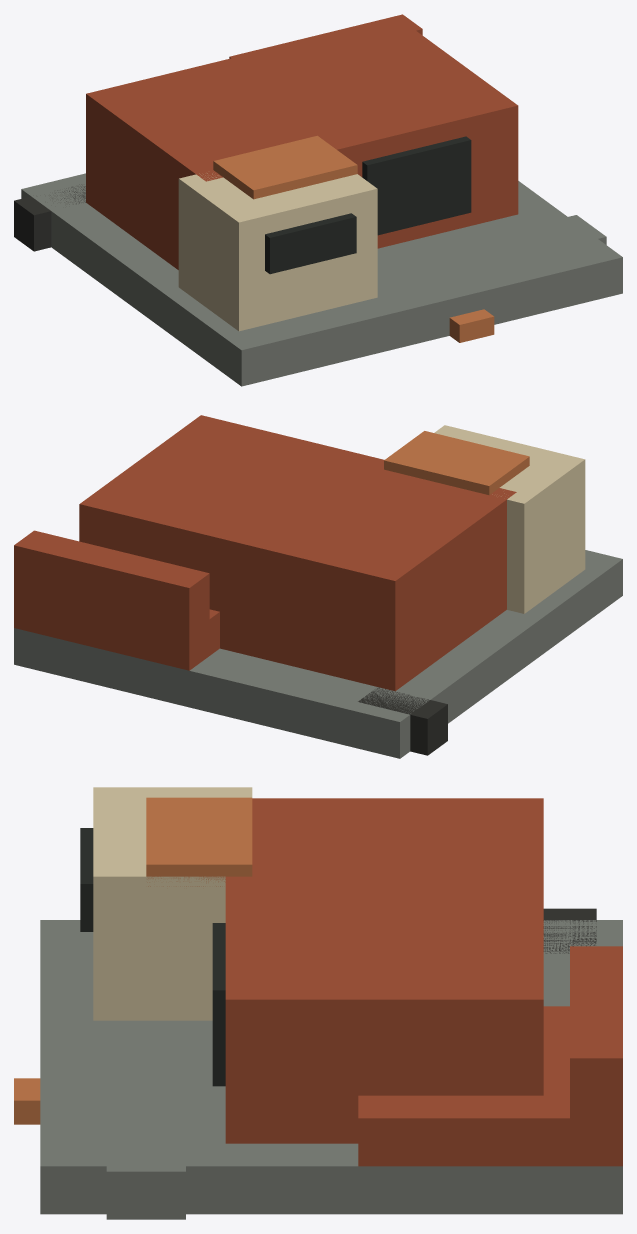
File: wreckSections.gltf
The picture shows the model from 3 angles, top to bottom: view 1: azimuth 30°, elevation 25°; view 2: azimuth 150°, elevation 25°; view 3: azimuth 270°, elevation 25°; orthographic projection. The views are drawn at different scales.
Visible parts, largest first — view 1: hullBlock, hullPlate, cabBlock, hullScorch, cabRoofStep, cabVisor, debrisB, debrisA, debrisC, bedRail; view 2: hullBlock, hullPlate, bedRail, cabBlock, bedPlate, cabRoofStep, debrisB; view 3: hullBlock, hullPlate, cabBlock, bedPlate, bedRail, cabRoofStep, debrisA, hullScorch, debrisB, cabVisor, debrisC.
Part boxes in pixels (x1=…): hullBlock: x1=86, y1=17, x2=518, y2=269; hullPlate: x1=21, y1=173, x2=622, y2=386; cabBlock: x1=178, y1=173, x2=377, y2=331; hullScorch: x1=362, y1=136, x2=471, y2=235; cabRoofStep: x1=213, y1=135, x2=357, y2=199; cabVisor: x1=265, y1=213, x2=356, y2=274; debrisB: x1=14, y1=184, x2=85, y2=251; debrisA: x1=525, y1=215, x2=606, y2=249; debrisC: x1=449, y1=309, x2=494, y2=342; bedRail: x1=229, y1=14, x2=422, y2=58; hullBlock: x1=79, y1=415, x2=516, y2=691; hullPlate: x1=14, y1=550, x2=622, y2=758; bedRail: x1=14, y1=530, x2=209, y2=642; cabBlock: x1=434, y1=425, x2=585, y2=613; bedPlate: x1=14, y1=591, x2=219, y2=670; cabRoofStep: x1=384, y1=431, x2=529, y2=494; debrisB: x1=358, y1=687, x2=447, y2=755; hullBlock: x1=225, y1=798, x2=543, y2=1143; hullPlate: x1=40, y1=920, x2=622, y2=1214; cabBlock: x1=93, y1=787, x2=252, y2=1020; bedPlate: x1=358, y1=1006, x2=622, y2=1166; bedRail: x1=570, y1=946, x2=622, y2=1130; cabRoofStep: x1=146, y1=797, x2=252, y2=886; debrisA: x1=106, y1=1138, x2=185, y2=1219; hullScorch: x1=212, y1=923, x2=225, y2=1086; debrisB: x1=543, y1=908, x2=596, y2=953; cabVisor: x1=80, y1=828, x2=93, y2=931; debrisC: x1=14, y1=1078, x2=40, y2=1124.
Size of the model in its own units: 2.94 by 1.06 by 2.88.
